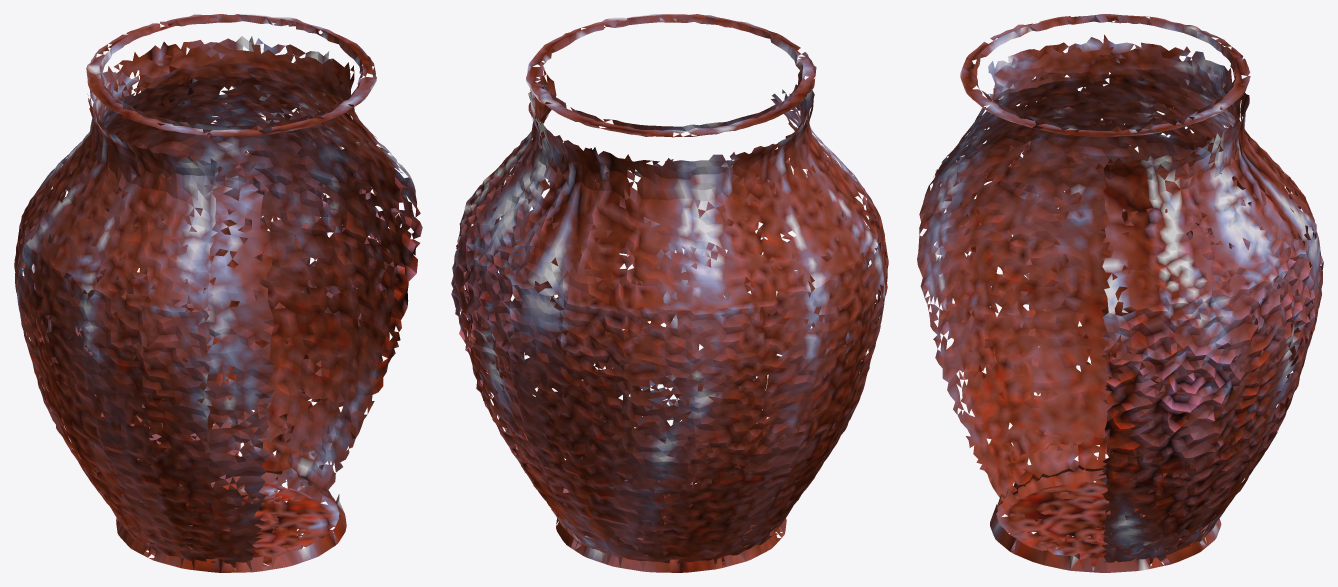
The model's file is vase2_final400.obj.
3 views of the same model, side by side, from view 1: azimuth 30°, elevation 25°; view 2: azimuth 150°, elevation 25°; view 3: azimuth 270°, elevation 25° (orthographic).
Bounding box in the file's own units: 1.47 × 1.7 × 1.36.
